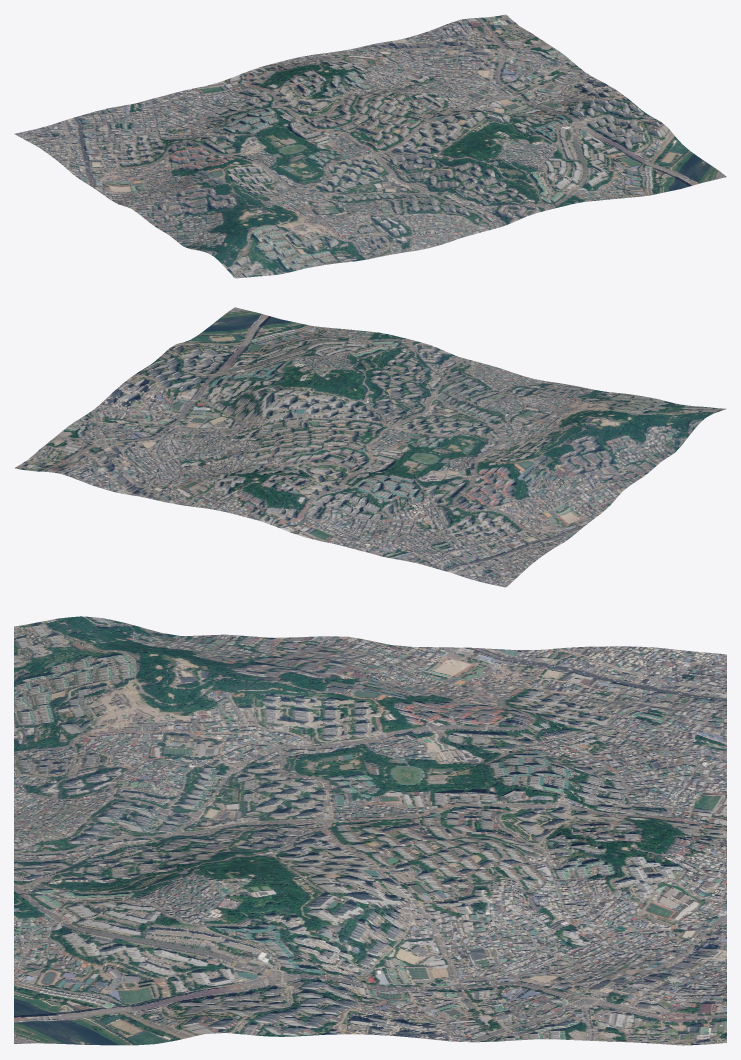
Rendered from GameMap.glb.
The picture shows the model from 3 angles, top to bottom: view 1: azimuth 30°, elevation 25°; view 2: azimuth 150°, elevation 25°; view 3: azimuth 270°, elevation 25°; orthographic projection. The views are drawn at different scales.
Visible parts, largest first — view 1: EXPORT_GOOGLE_SAT_WM; view 2: EXPORT_GOOGLE_SAT_WM; view 3: EXPORT_GOOGLE_SAT_WM.
Boxes of the visible parts, box(x1,y1,x2,y2) form: EXPORT_GOOGLE_SAT_WM: box(14, 14, 726, 278); EXPORT_GOOGLE_SAT_WM: box(14, 307, 726, 587); EXPORT_GOOGLE_SAT_WM: box(14, 616, 726, 1045).
Bounding box in the file's own units: 2752 × 156 × 2140.
1 material, 1 textured.
